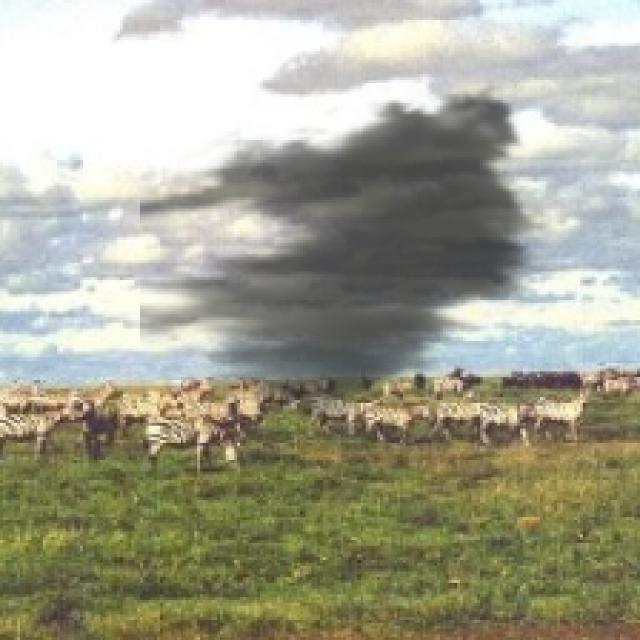Smoke: (140, 74, 557, 432)
